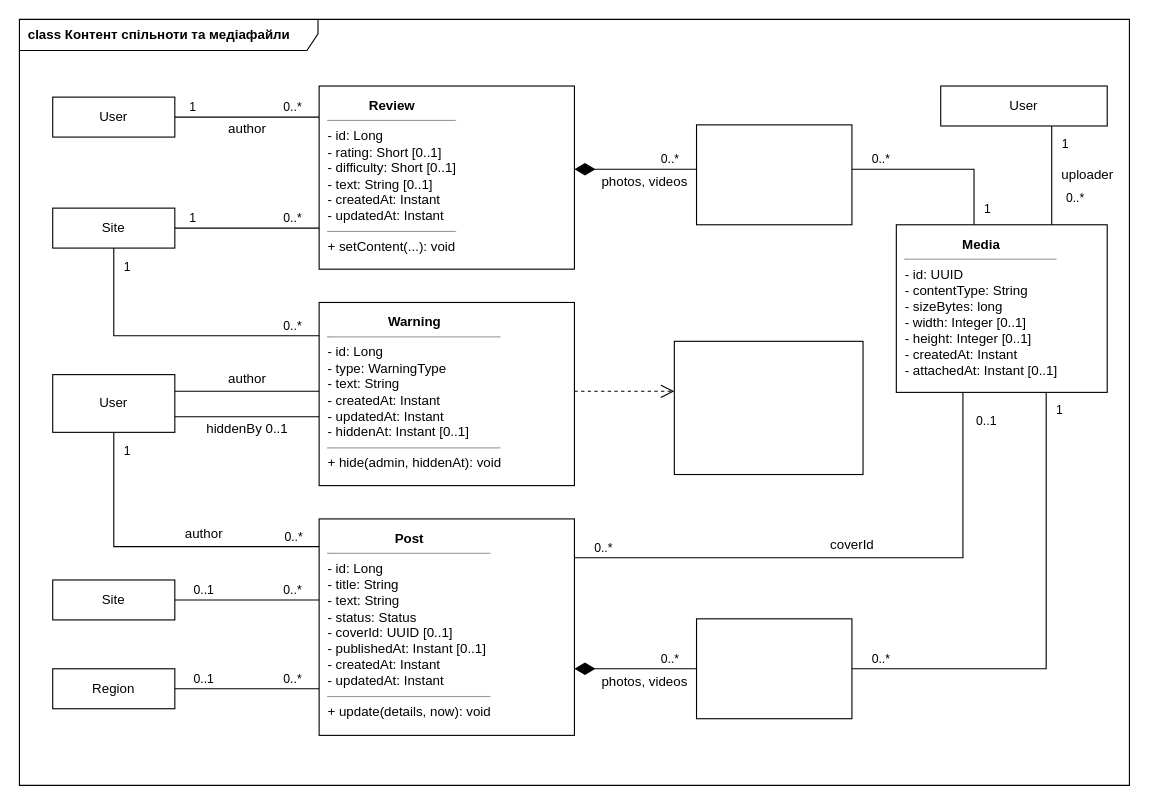
Image size: 1149x805. Some labels were removed from this diagram. Each missing label, with the centre of its shape:
"«embeddable» PostMedia - mediaId: UUID - position: short" belongs at point 773,668.
"«embeddable» ReviewMedia - mediaId: UUID - position: short" belongs at point 773,174.
"«enumeration» WarningType HAZARD INCIDENT CHANGED_CONDITIONS MARINE_LIFE" belongs at point 768,407.
